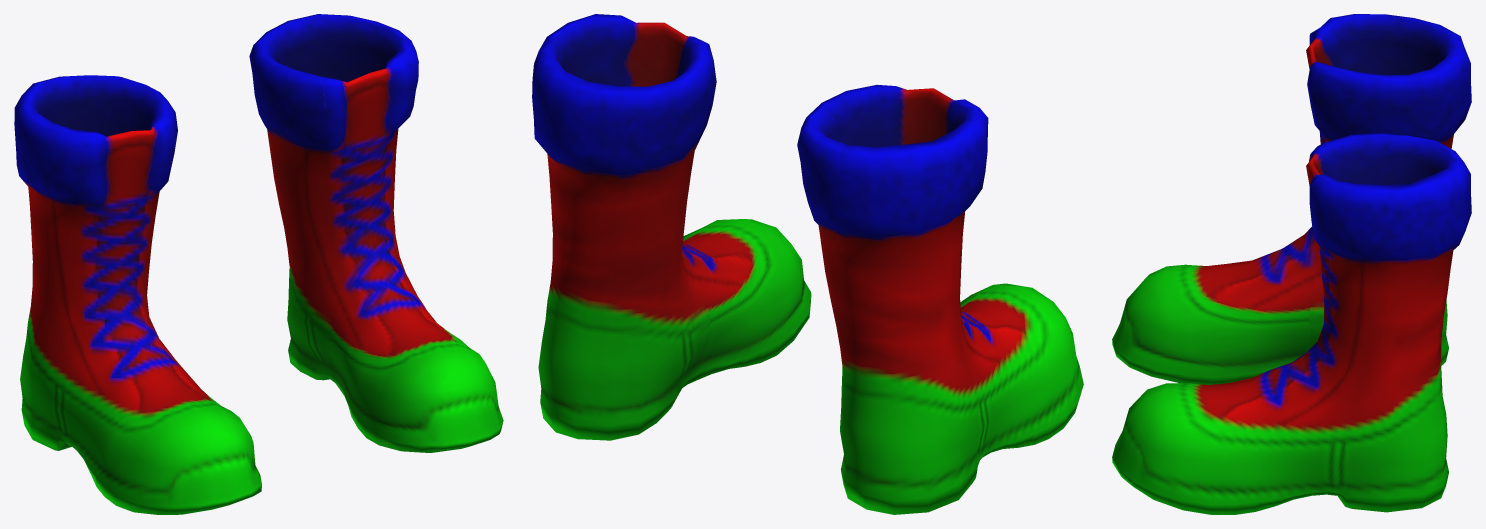
The model's file is Feet_SnowBoots.obj.
The picture shows the model from 3 angles, left to right: view 1: azimuth 30°, elevation 25°; view 2: azimuth 150°, elevation 25°; view 3: azimuth 270°, elevation 25°; orthographic projection. The views are drawn at different scales.
Parts seen in each view (by area): view 1: Feet_SnowBoots_0; view 2: Feet_SnowBoots_0; view 3: Feet_SnowBoots_0.
Part boxes in pixels (x1,y1,x2,y2): Feet_SnowBoots_0: (14, 14, 503, 514); Feet_SnowBoots_0: (532, 14, 1083, 514); Feet_SnowBoots_0: (1112, 14, 1471, 514).
Size of the model in its own units: 0.3478 by 0.2877 by 0.2867.
1 material, 1 textured.
